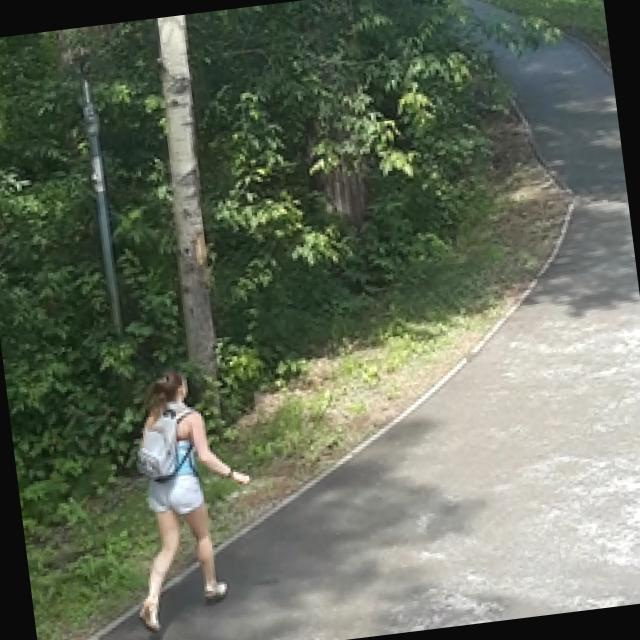person: (108, 360, 269, 636)
